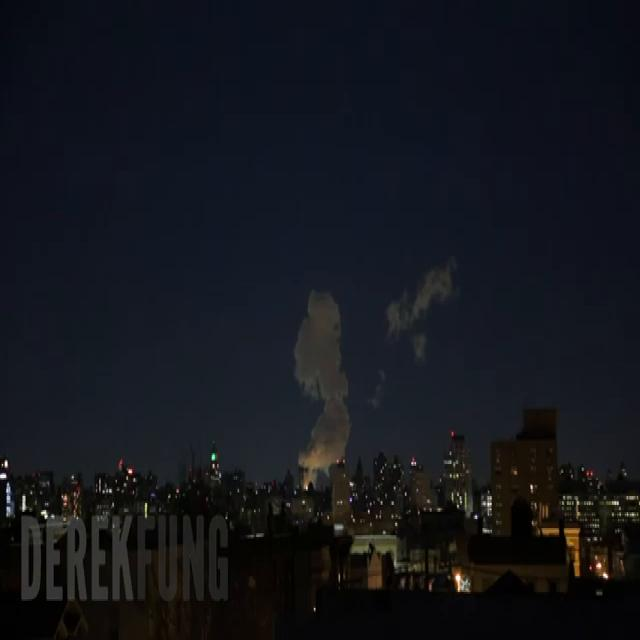smoke: (294, 292, 351, 482)
